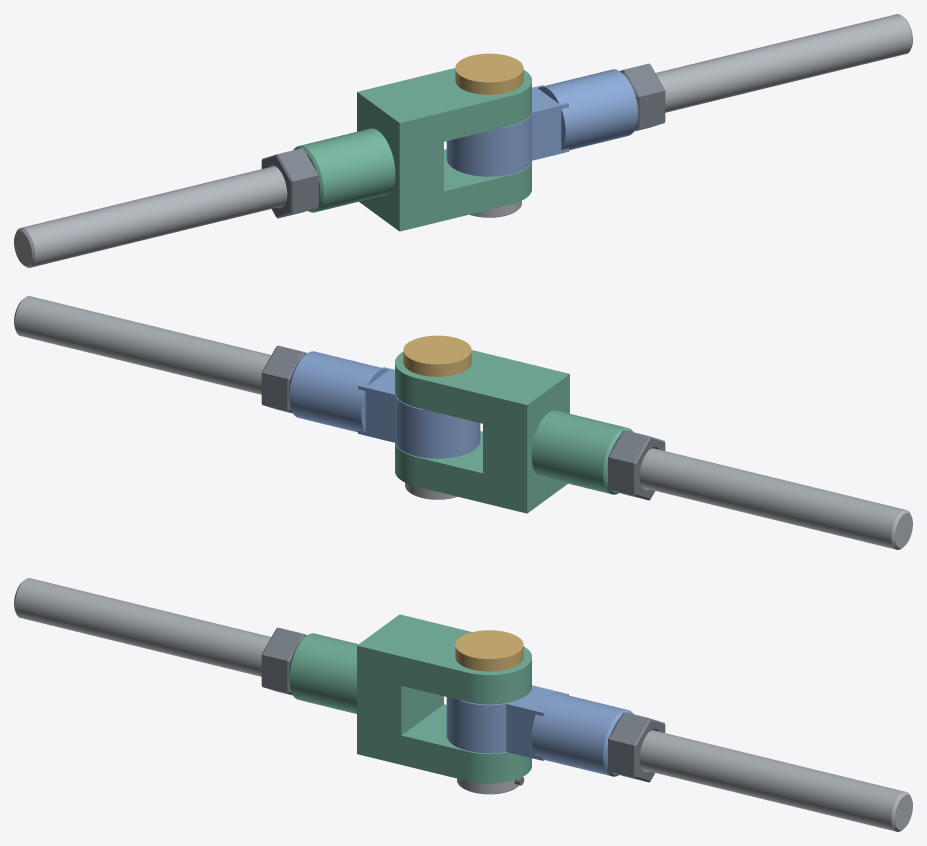
The model's file is step_14.glb.
The picture shows the model from 3 angles, top to bottom: view 1: azimuth 30°, elevation 25°; view 2: azimuth 150°, elevation 25°; view 3: azimuth 330°, elevation 25°; orthographic projection.
Parts seen in each view (by area): view 1: part__fork end, part__tie rod 2, part__eye end, part__tie rod 1, part__knuckle pin, part__lock nut 2, part__lock nut 1; view 2: part__fork end, part__tie rod 2, part__eye end, part__tie rod 1, part__knuckle pin, part__lock nut 2, part__lock nut 1; view 3: part__fork end, part__tie rod 1, part__tie rod 2, part__eye end, part__knuckle pin, part__lock nut 1, part__lock nut 2, part__collar.
Part boxes in pixels (<box>): part__fork end: <box>293,68,531,231</box>; part__tie rod 2: <box>14,166,287,267</box>; part__eye end: <box>446,69,638,176</box>; part__tie rod 1: <box>655,14,912,112</box>; part__knuckle pin: <box>455,53,523,94</box>; part__lock nut 2: <box>261,148,318,218</box>; part__lock nut 1: <box>620,63,665,131</box>; part__fork end: <box>395,350,633,513</box>; part__tie rod 2: <box>639,448,912,549</box>; part__eye end: <box>288,351,480,458</box>; part__tie rod 1: <box>14,296,271,394</box>; part__knuckle pin: <box>403,335,471,376</box>; part__lock nut 2: <box>608,430,665,500</box>; part__lock nut 1: <box>261,345,306,413</box>; part__fork end: <box>288,614,531,783</box>; part__tie rod 1: <box>639,730,912,831</box>; part__tie rod 2: <box>14,578,271,676</box>; part__eye end: <box>446,685,633,776</box>; part__knuckle pin: <box>455,630,523,671</box>; part__lock nut 1: <box>608,712,665,782</box>; part__lock nut 2: <box>261,627,306,695</box>; part__collar: <box>457,778,519,794</box>.
Size of the model in its own units: 595 by 91 by 50.
